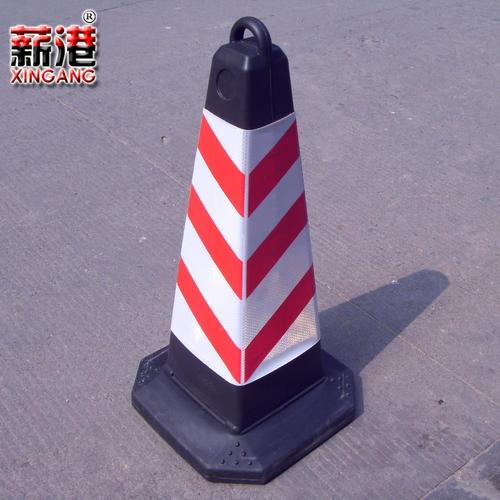cone_barrel: (132, 8, 355, 466)
